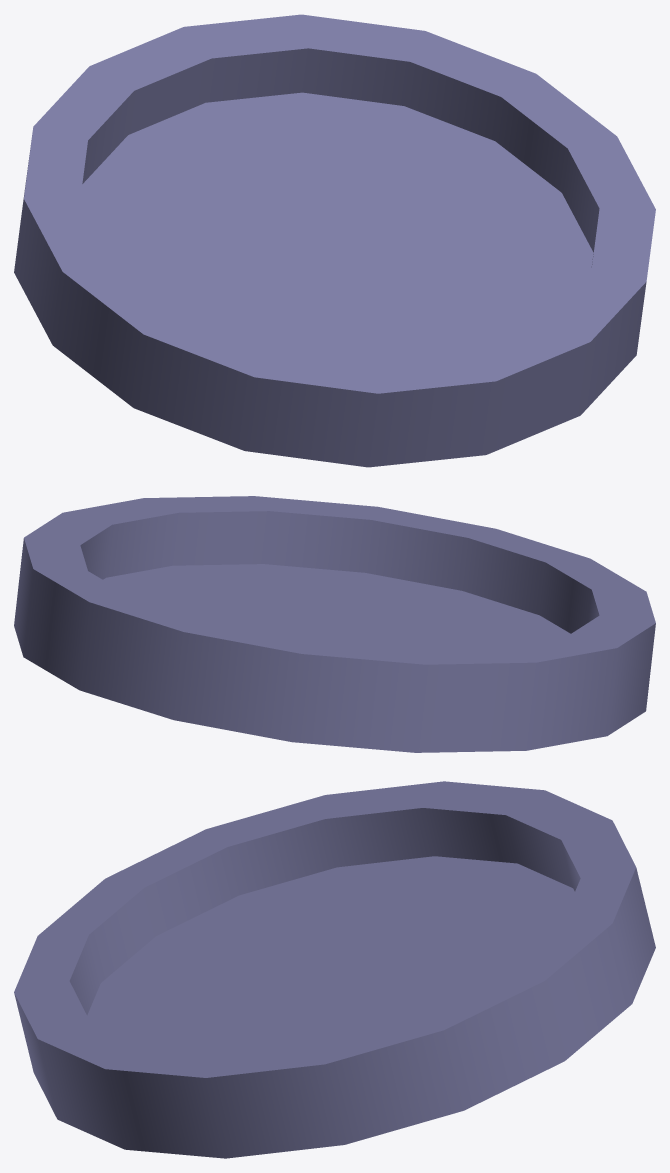
File: buttBase.gltf
The picture shows the model from 3 angles, top to bottom: view 1: azimuth 30°, elevation 25°; view 2: azimuth 150°, elevation 25°; view 3: azimuth 270°, elevation 25°; orthographic projection.
Parts seen in each view (by area): view 1: baseButt; view 2: baseButt; view 3: baseButt.
Part boxes in pixels (x1,y1,x2,y2): baseButt: (14, 14, 655, 467); baseButt: (14, 496, 655, 752); baseButt: (14, 781, 655, 1158).
Bounding box in the file's own units: 1.12 × 0.3986 × 1.13.
